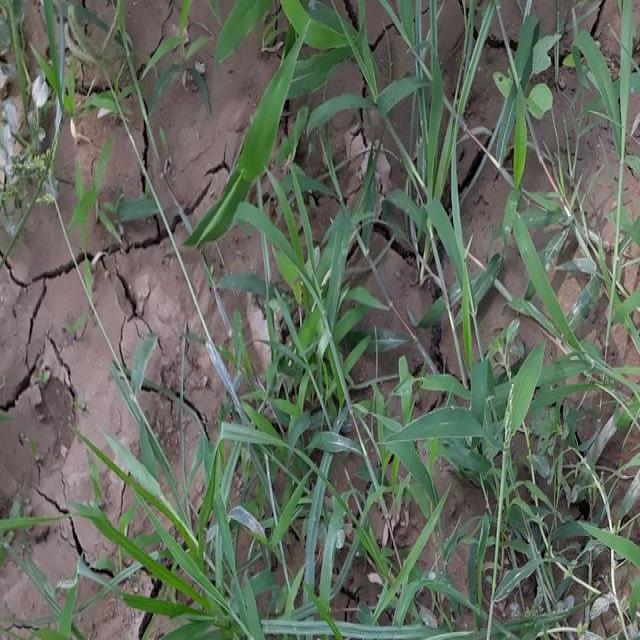weed: (208, 180, 425, 640), (452, 212, 639, 640), (229, 9, 574, 150)
